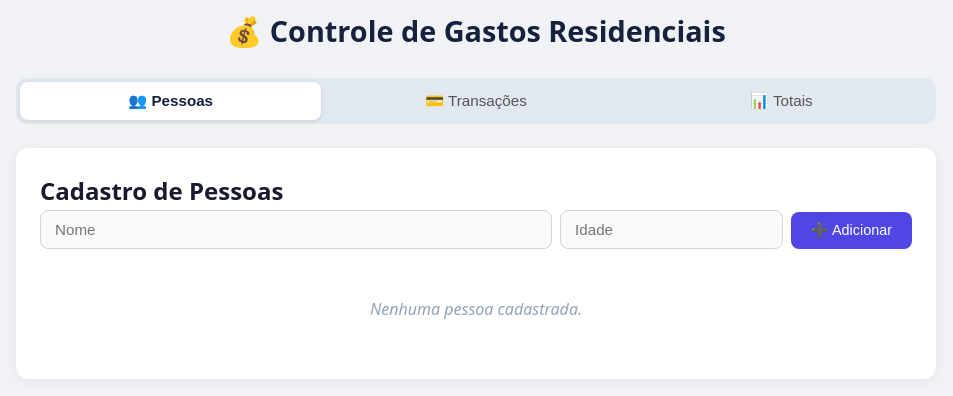
Test: TotalsTab › should show loading state while fetching totals
Click the button "📊 Totais" at (781, 101), box [631,82,932,120]
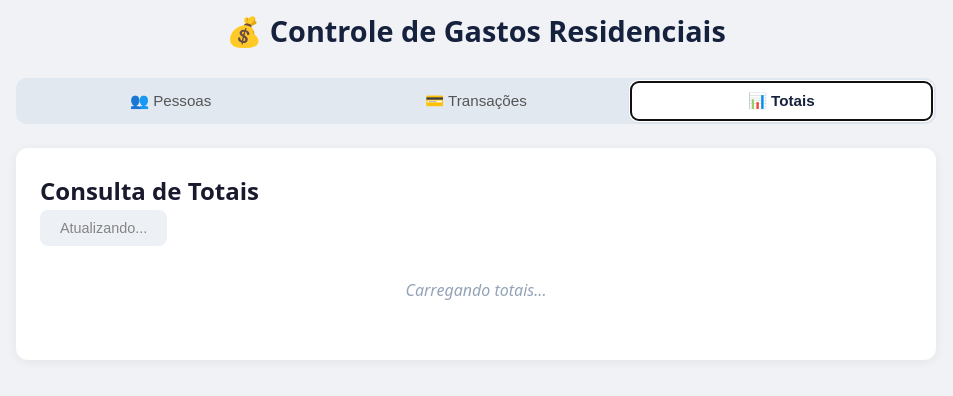
Check: the text "Carregando totais..." is shown, box [406,280,546,302]
